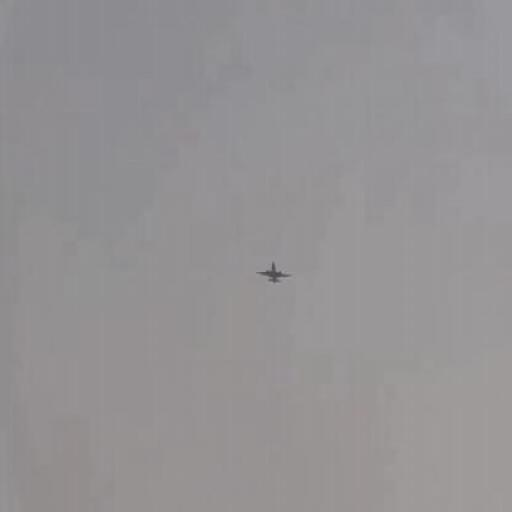aircraft: (255, 261, 293, 282)
